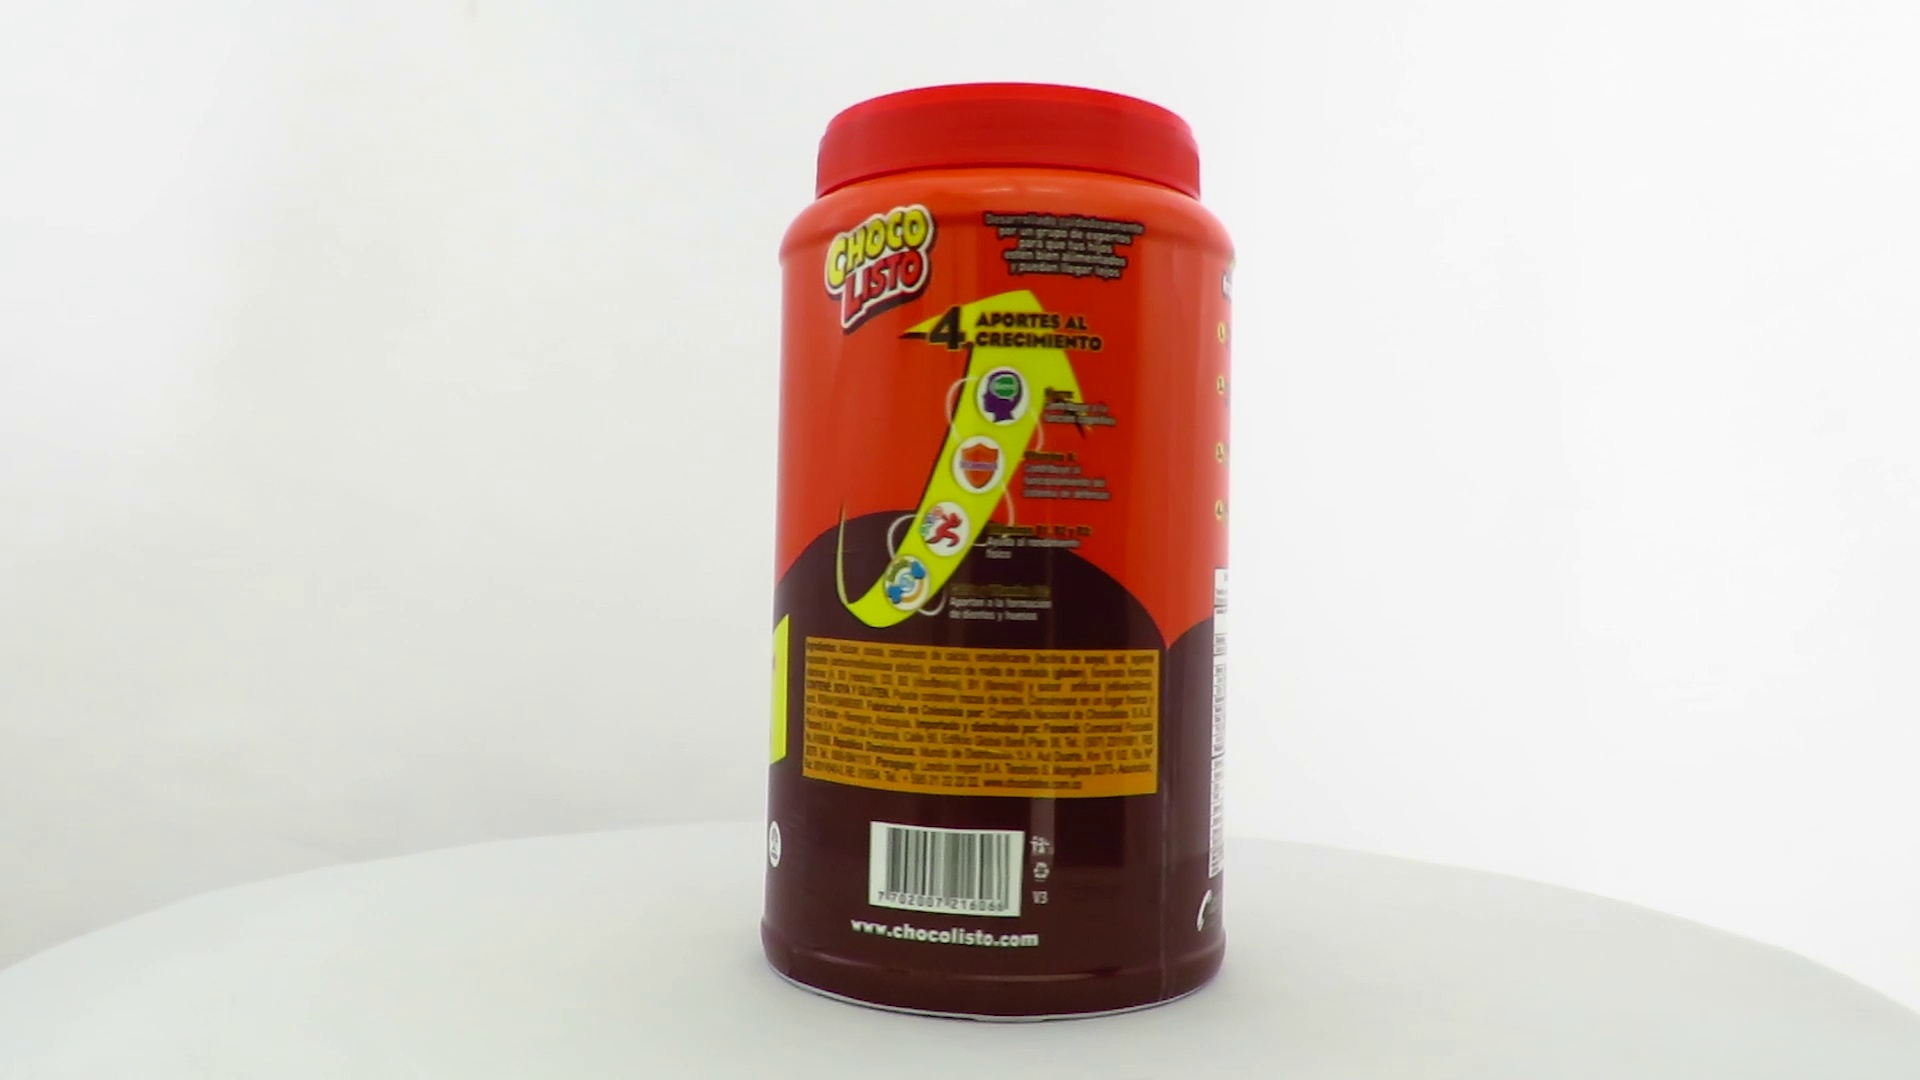COL0170103TRR00100: (756, 76, 1238, 1030)
